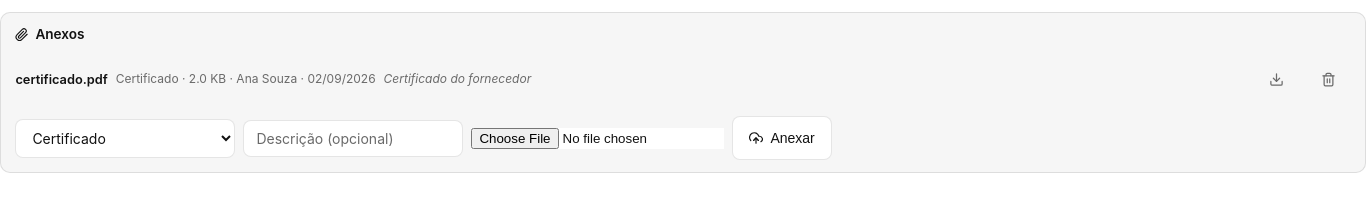
Test: AnexosDocumento — download autenticado › (6) erro do download vem do corpo do Blob, não de response.data.error
The width and height of the screenshot is (1366, 218).
Click the button named "Baixar" at (1277, 79), box [1255,57,1299,101]
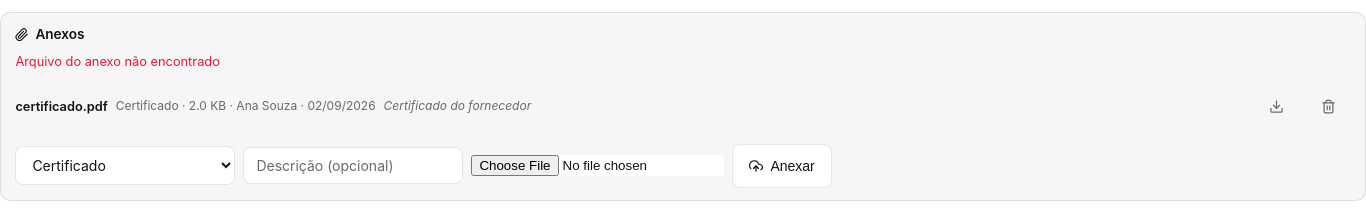
Now the text "Arquivo do anexo não encontrado" is shown, box [15,54,220,69]
